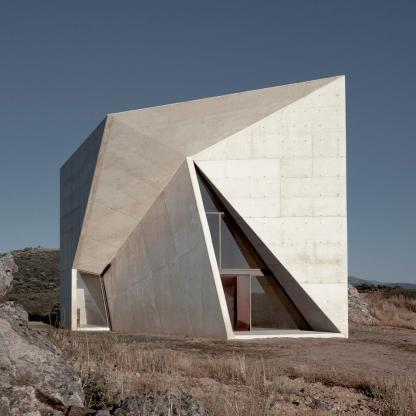Building Outline: (60, 74, 348, 340)
Door: (220, 274, 250, 332)
Facade: (213, 97, 347, 339)
Floor Slab: (213, 269, 347, 275)
Glass Wall: (195, 169, 267, 269), (251, 276, 311, 331), (77, 269, 109, 328)
Ground Floor: (213, 275, 347, 339)
Top Floor: (213, 156, 347, 269)
